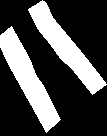parkingspot: (28, 0, 106, 94), (0, 26, 60, 132)
